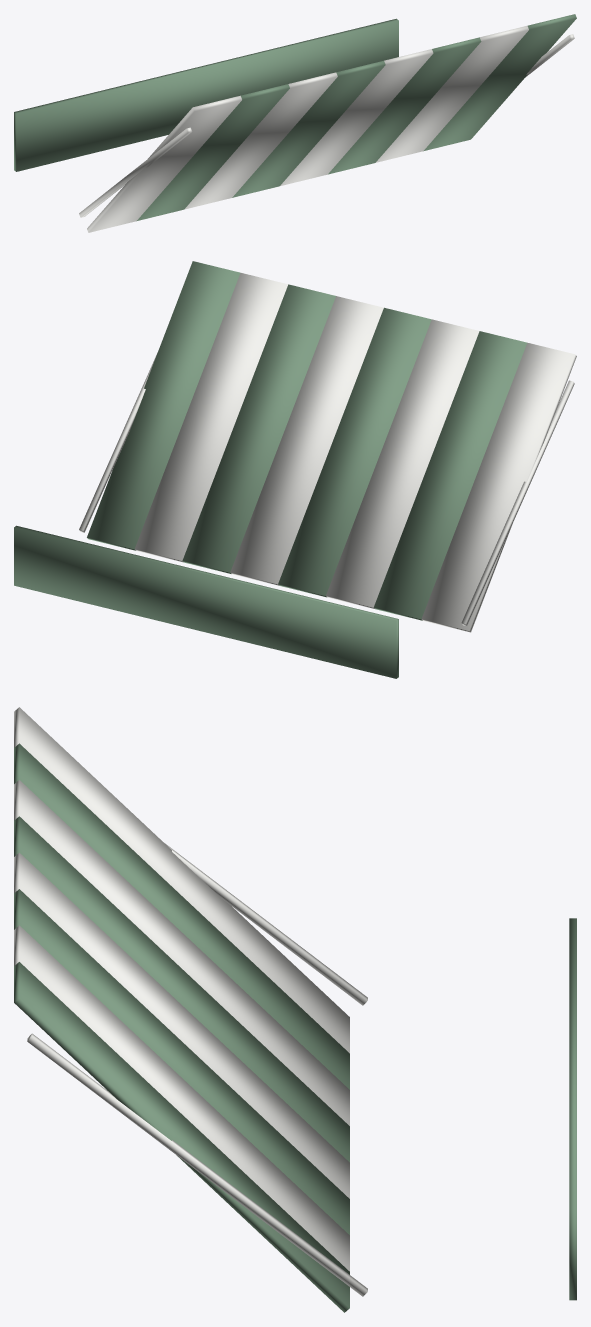
File: hp_awning.glb
3 views of the same model, one above another, from view 1: azimuth 30°, elevation 25°; view 2: azimuth 150°, elevation 25°; view 3: azimuth 270°, elevation 25° (orthographic). The views are drawn at different scales.
Visible parts, largest first — view 1: hp_awning; view 2: hp_awning; view 3: hp_awning.
Part boxes in pixels (x1,y1,x2,y2): hp_awning: (14, 14, 576, 232); hp_awning: (14, 261, 576, 678); hp_awning: (14, 707, 576, 1312).
Size of the model in its own units: 1.11 by 0.555 by 0.8993.
